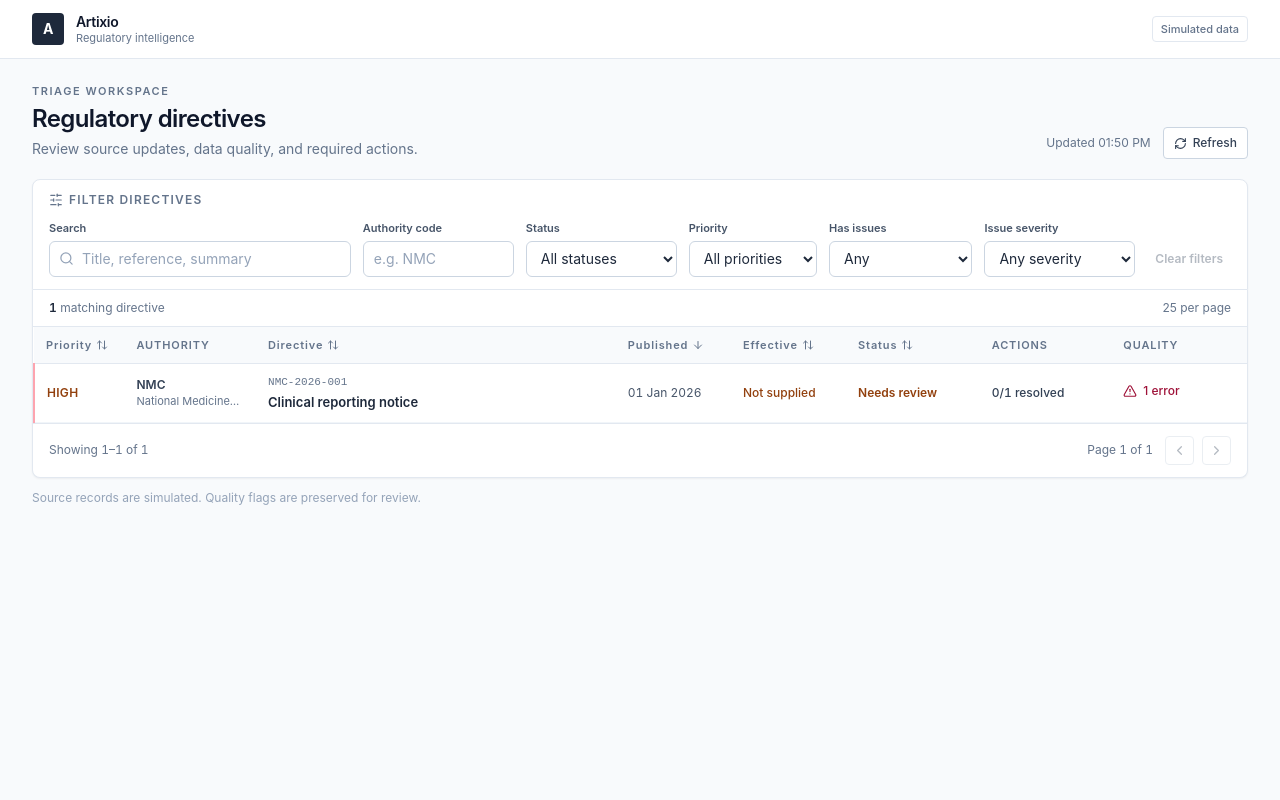
it: triage page › shows a PATCH failure and retains the confirmed status
The image size is (1280, 800).
Click the button "Clinical reporting notice" at (343, 402), box [268,392,418,412]
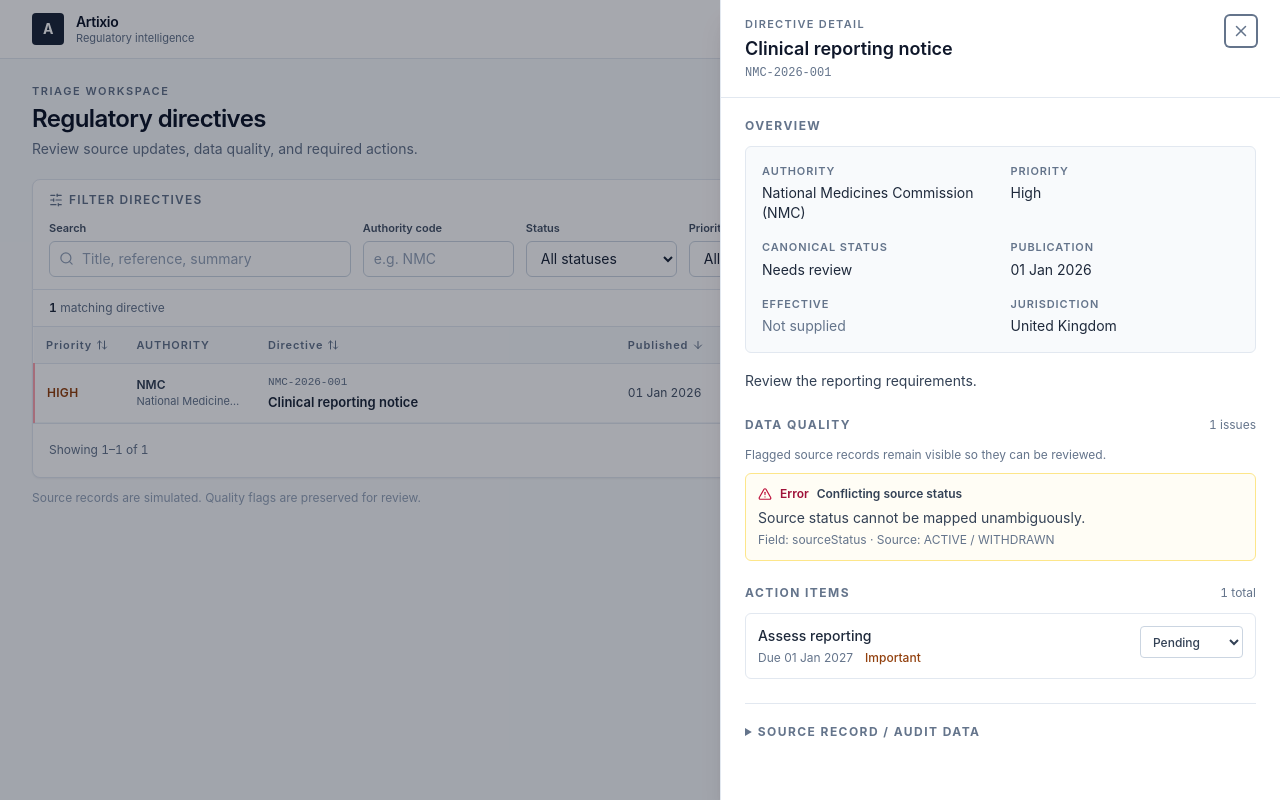
Select "Resolved" in the dropdown named "Status for Assess reporting" at (1192, 642), box [1140,626,1243,658]
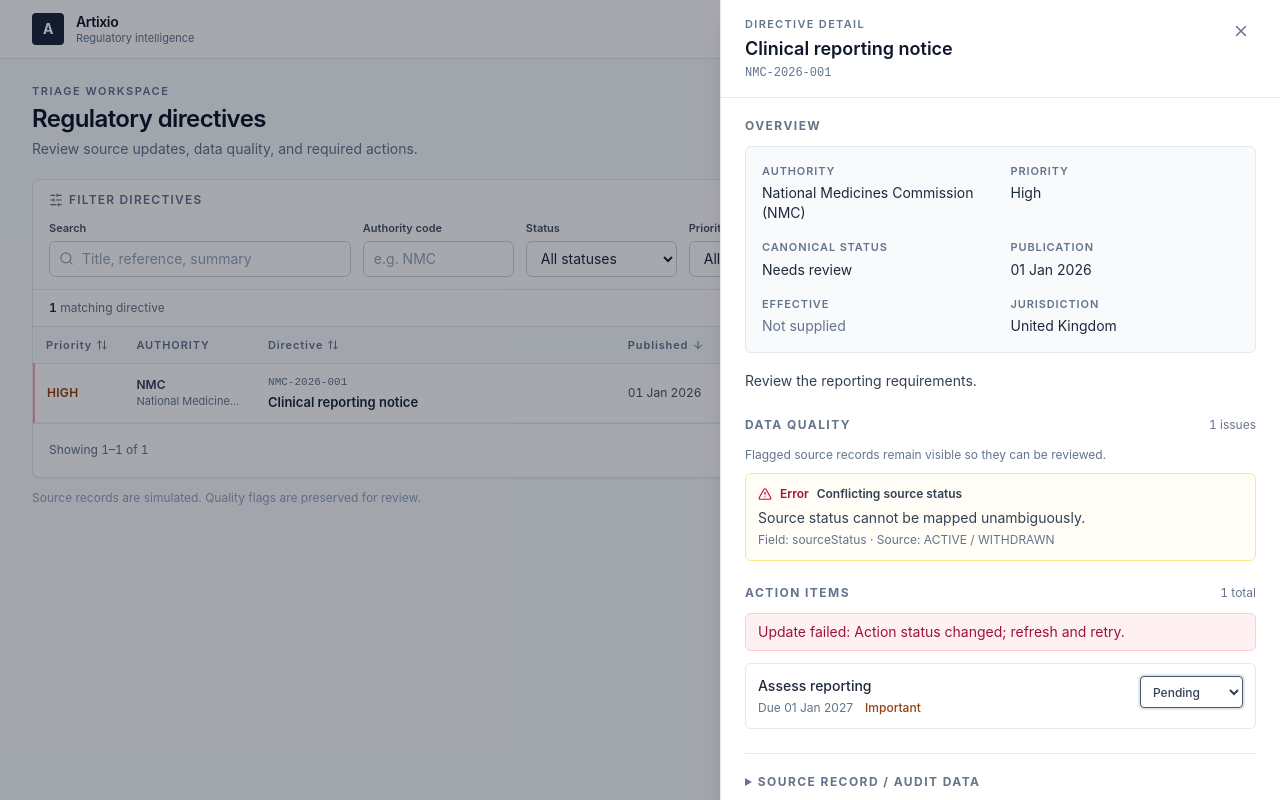
Check: the message reads "Update failed: Action status changed; refresh and retry.", box [745,613,1256,651]
